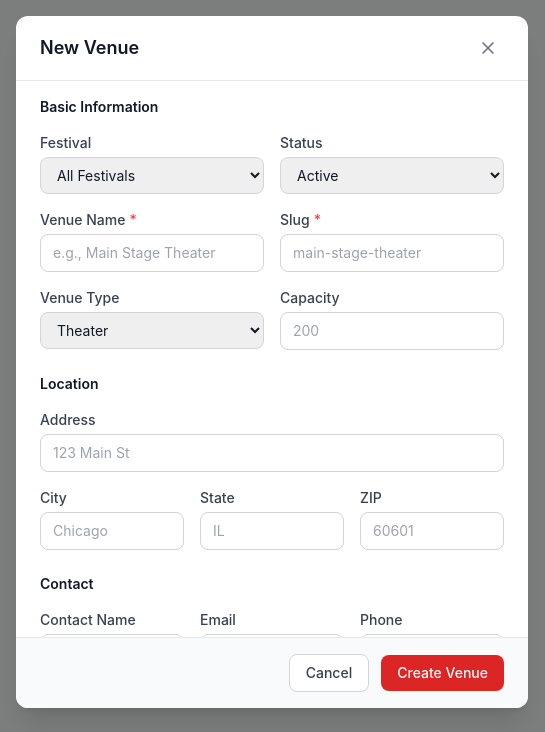
it: VenueForm › form validation › requires name field
Click the button "Create Venue" at (443, 673), box [381, 655, 504, 691]
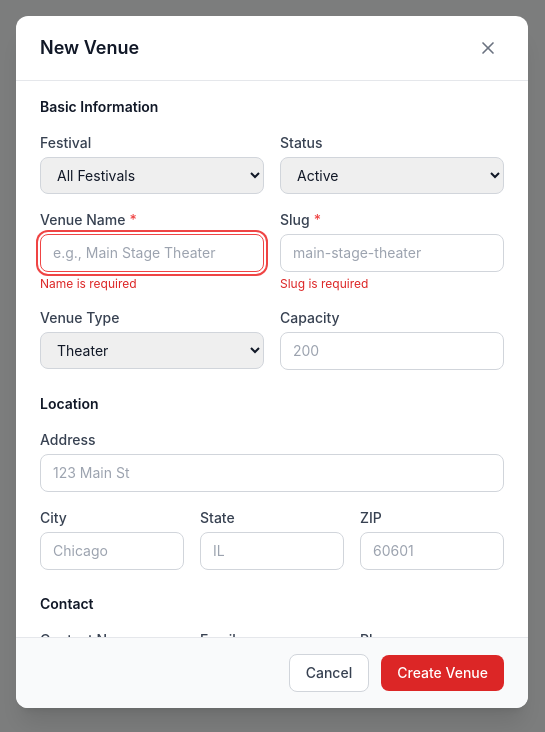
Expected: the text "Name is required" is shown, [40, 276, 137, 291]
